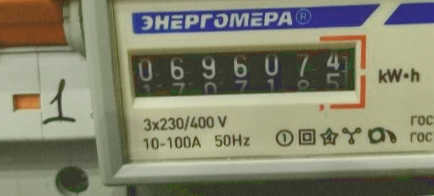0: (134, 56, 154, 82), (261, 50, 278, 77)
4: (323, 48, 339, 70)
5: (323, 71, 340, 91)
6: (229, 51, 248, 78), (166, 54, 185, 80)
7: (293, 51, 310, 77)
9: (198, 53, 215, 79)
screen: (116, 31, 370, 117)
